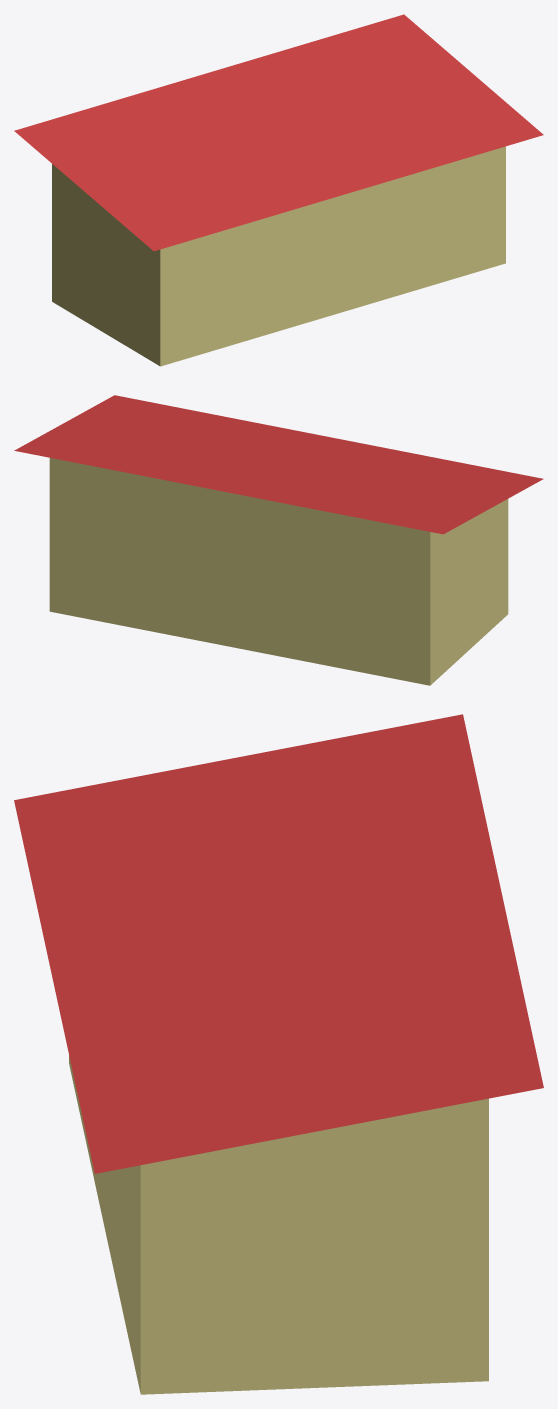
The picture shows the model from 3 angles, top to bottom: view 1: azimuth 30°, elevation 25°; view 2: azimuth 150°, elevation 25°; view 3: azimuth 270°, elevation 25°; orthographic projection. The views are drawn at different scales.
Bounding box in the file's own units: 18.26 × 10.46 × 6.81.
